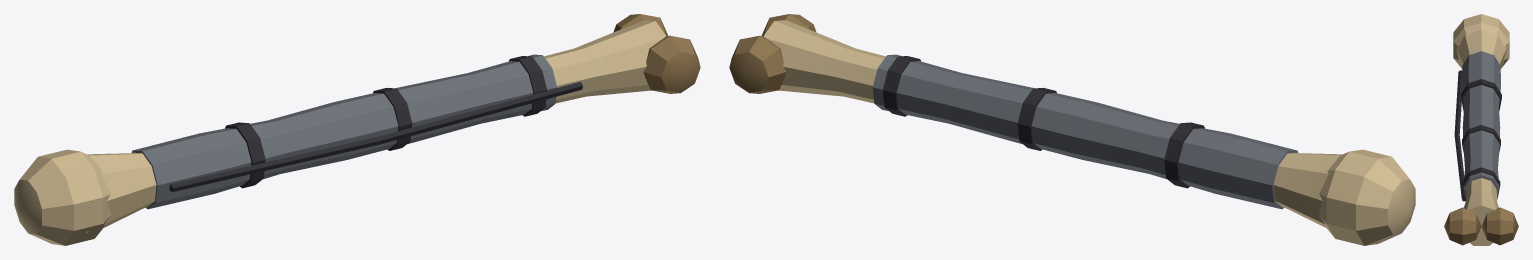
Rendered from cc_humerus.glb.
The picture shows the model from 3 angles, left to right: view 1: azimuth 30°, elevation 25°; view 2: azimuth 150°, elevation 25°; view 3: azimuth 270°, elevation 25°; orthographic projection. The views are drawn at different scales.
Parts seen in each view (by area): view 1: teil1, teil0, teil2, teil4; view 2: teil1, teil0, teil4, teil2; view 3: teil1, teil0, teil4, teil2.
Part boxes in pixels (left/top/right/bottom): teil1: left=131, top=54, right=557, bottom=209; teil0: left=14, top=20, right=665, bottom=245; teil2: left=169, top=56, right=582, bottom=192; teil4: left=613, top=14, right=700, bottom=93; teil1: left=872, top=54, right=1298, bottom=209; teil0: left=764, top=20, right=1415, bottom=245; teil4: left=729, top=14, right=816, bottom=93; teil2: left=882, top=56, right=1204, bottom=188; teil1: left=1462, top=51, right=1500, bottom=199; teil0: left=1453, top=14, right=1509, bottom=245; teil4: left=1444, top=207, right=1518, bottom=245; teil2: left=1454, top=70, right=1501, bottom=201.
Size of the model in its own units: 0.62 by 0.0761 by 0.096.
